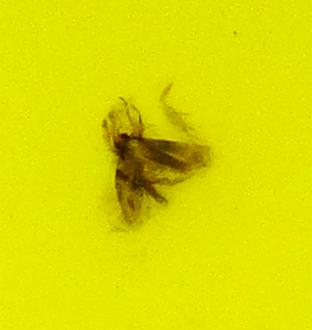Lepidoptera: (100, 100, 212, 230)
